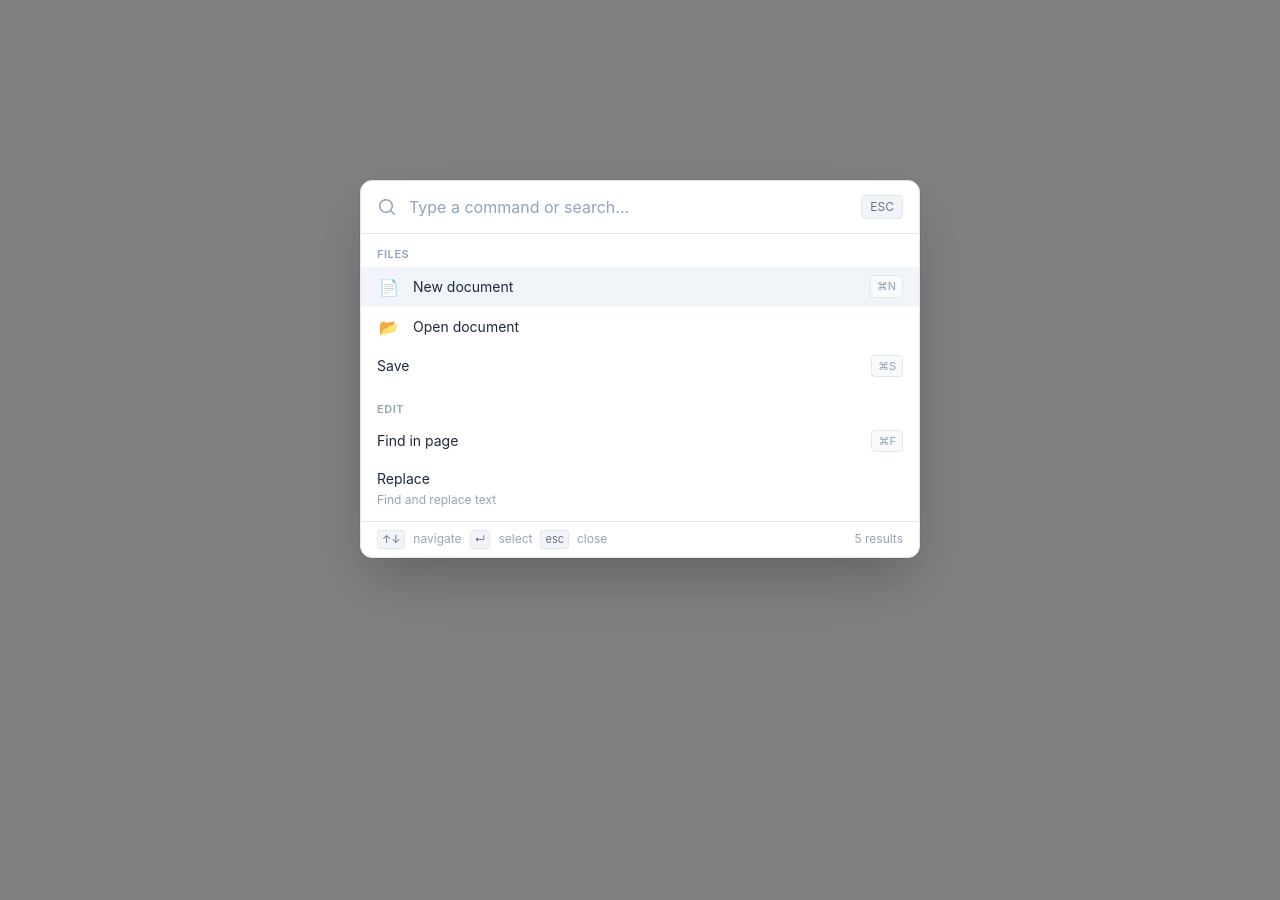
CommandPalette › shows the empty message when query has no matches
Type "zzzzzzzz_no_match_zzzzzzzz" into the dropdown at x=629, y=207, box 409,195 -> 849,219
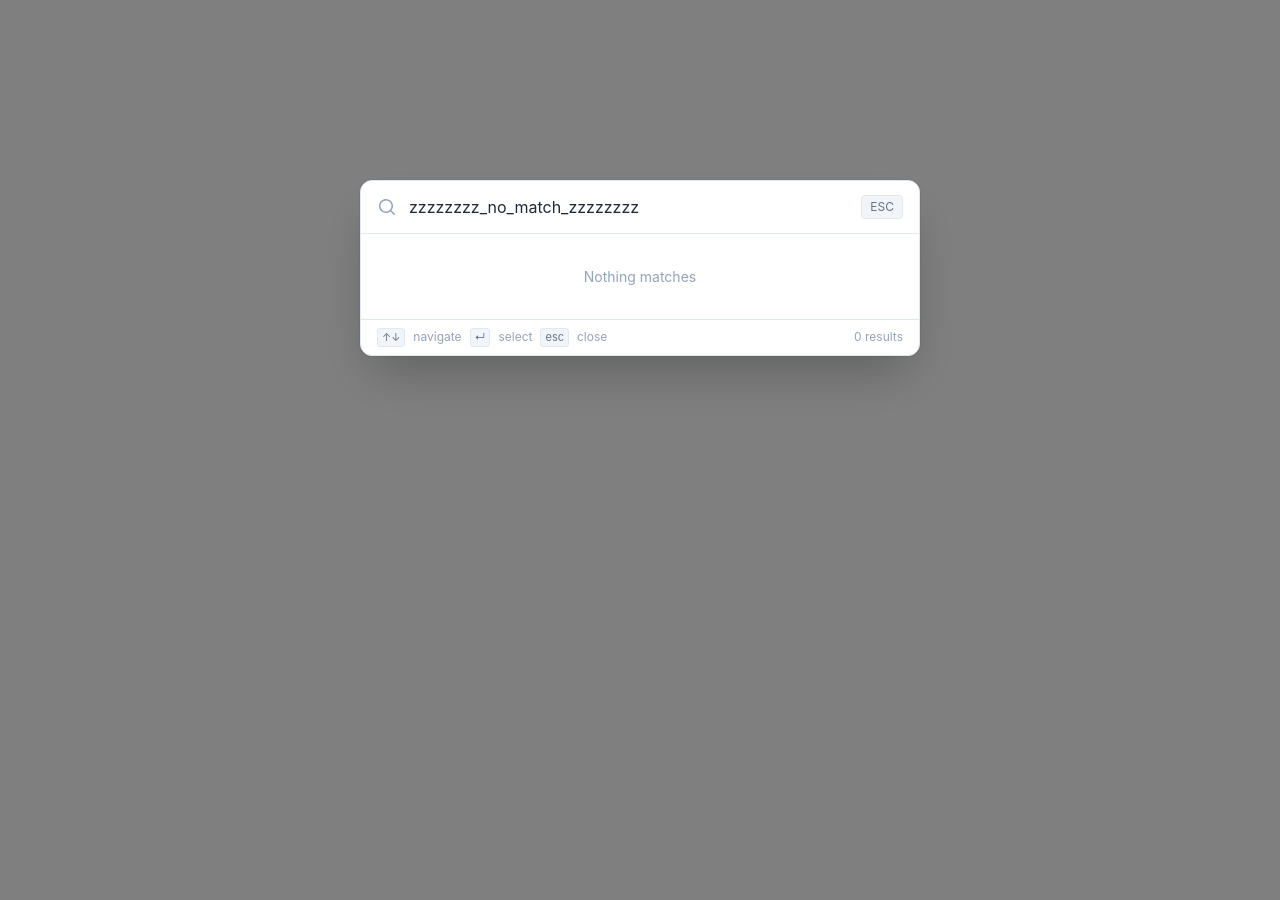
Now the text "Nothing matches" is shown, box 584,268 -> 696,285
